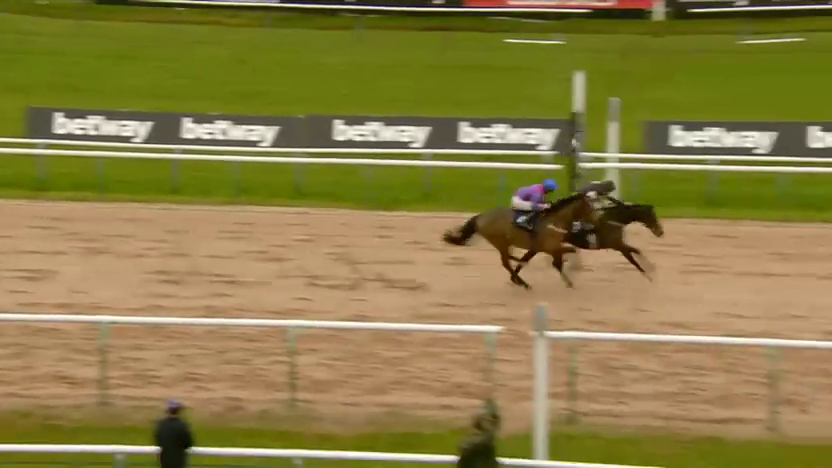jockey: (509, 180, 555, 230), (573, 181, 617, 226)
